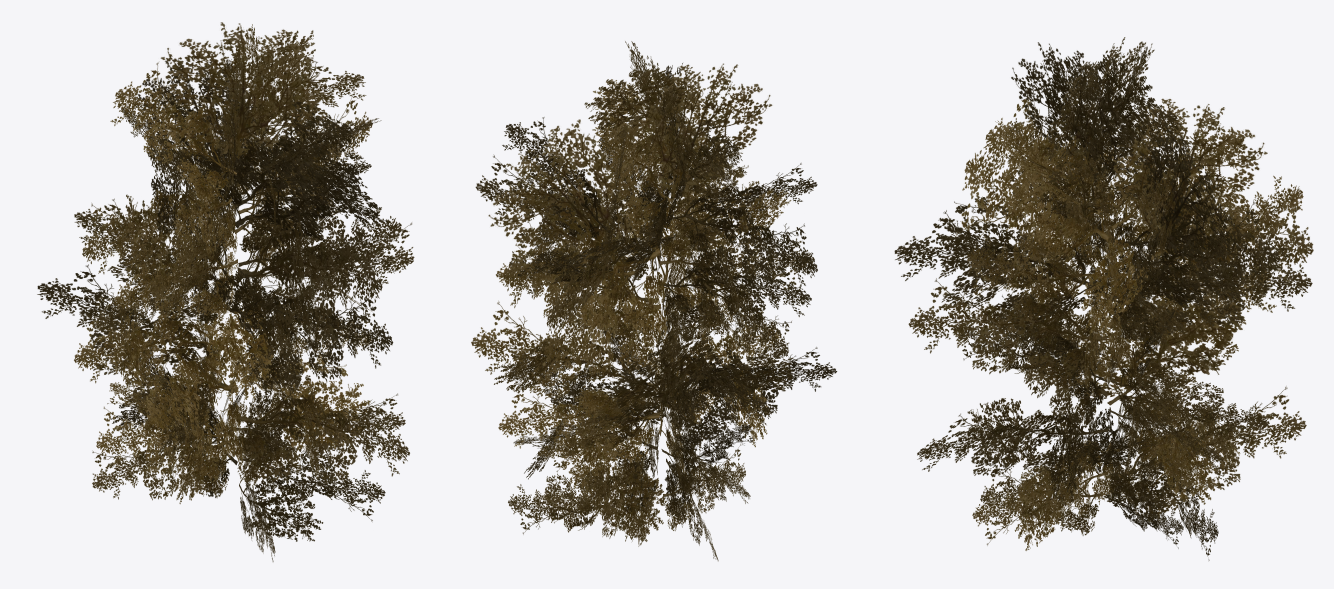
Rendered from bush.glb.
3 views of the same model, side by side, from view 1: azimuth 30°, elevation 25°; view 2: azimuth 150°, elevation 25°; view 3: azimuth 270°, elevation 25° (orthographic). The views are drawn at different scales.
Visible parts, largest first — view 1: Tree_Branches_02_Tree_Branches_02_0; view 2: Tree_Branches_02_Tree_Branches_02_0; view 3: Tree_Branches_02_Tree_Branches_02_0.
Part boxes in pixels (x1,y1,x2,y2): Tree_Branches_02_Tree_Branches_02_0: (37,22,414,561); Tree_Branches_02_Tree_Branches_02_0: (471,41,836,561); Tree_Branches_02_Tree_Branches_02_0: (894,37,1313,560).
Size of the model in its own units: 0.6928 by 1 by 0.8025.
Materials: 1 (1 with a texture image).
